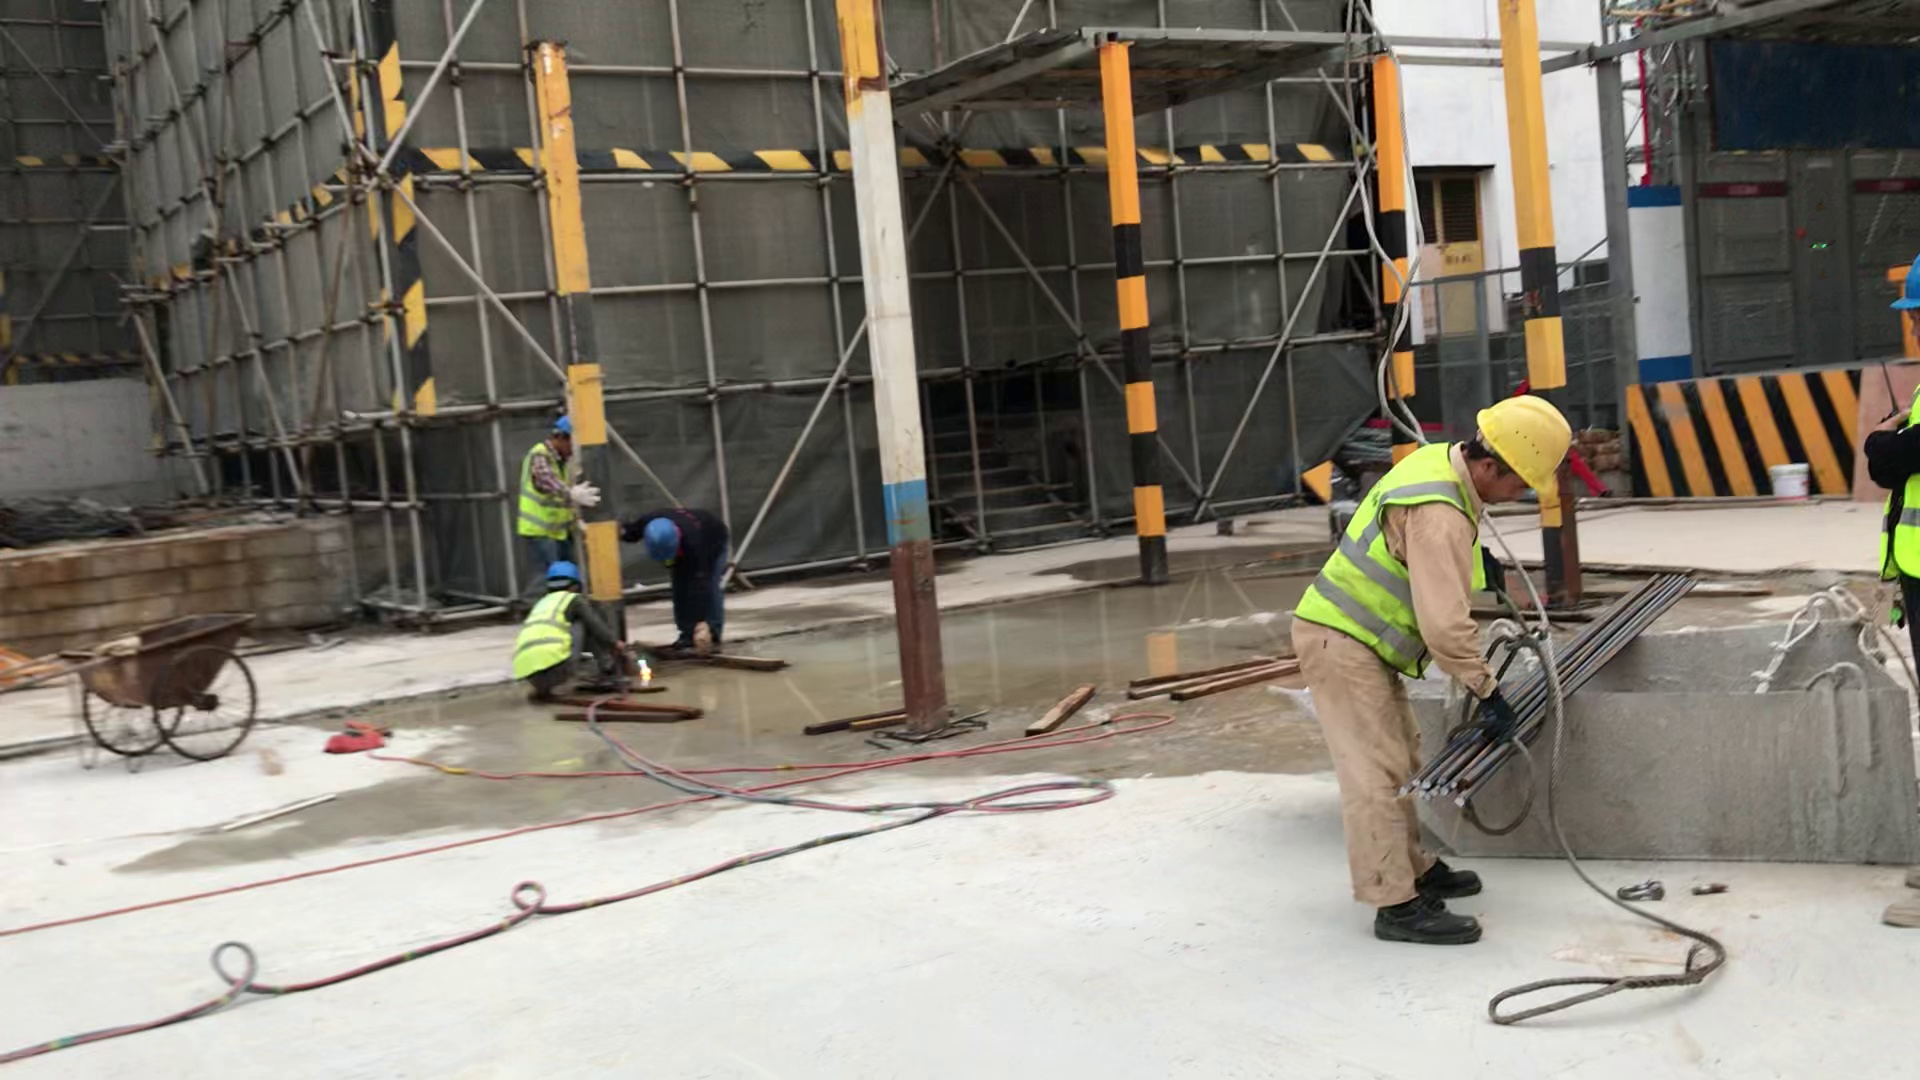handcart: (3, 595, 294, 788)
helmet: (1469, 381, 1574, 523), (636, 501, 688, 573), (1879, 242, 1920, 311), (533, 554, 585, 597), (551, 404, 582, 446)
hopper: (1399, 573, 1917, 900)
person: (1281, 366, 1583, 969), (1850, 210, 1920, 911), (613, 480, 751, 674), (508, 560, 627, 733), (520, 403, 605, 588)
rebar: (1396, 603, 1663, 835)
vest: (1283, 438, 1490, 682), (1866, 364, 1920, 596), (505, 439, 589, 542), (512, 591, 587, 681)
